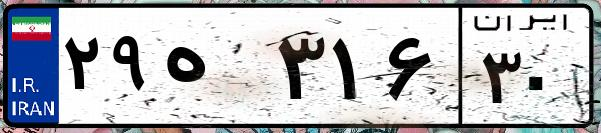0: (525, 38, 570, 115)
1: (330, 28, 385, 110)
2: (57, 26, 110, 100)
3: (270, 28, 330, 110), (475, 38, 525, 113)
6: (385, 28, 445, 110)
9: (110, 28, 158, 98)
ه: (158, 20, 270, 120)
